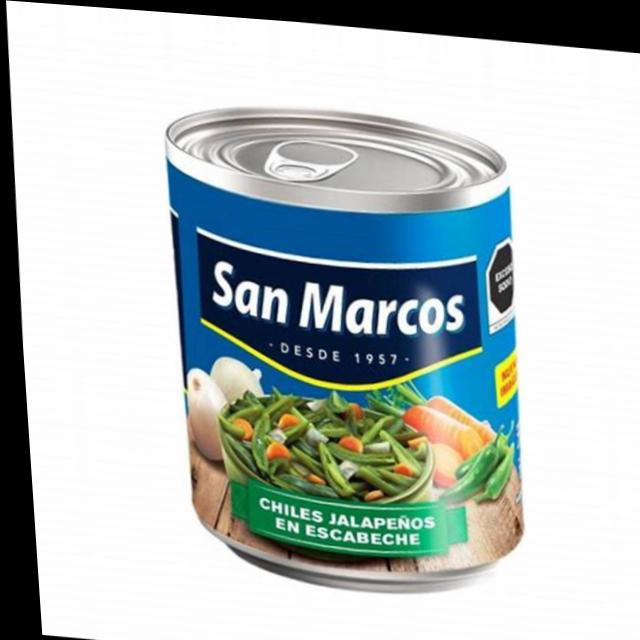Lata: (132, 87, 541, 593)
